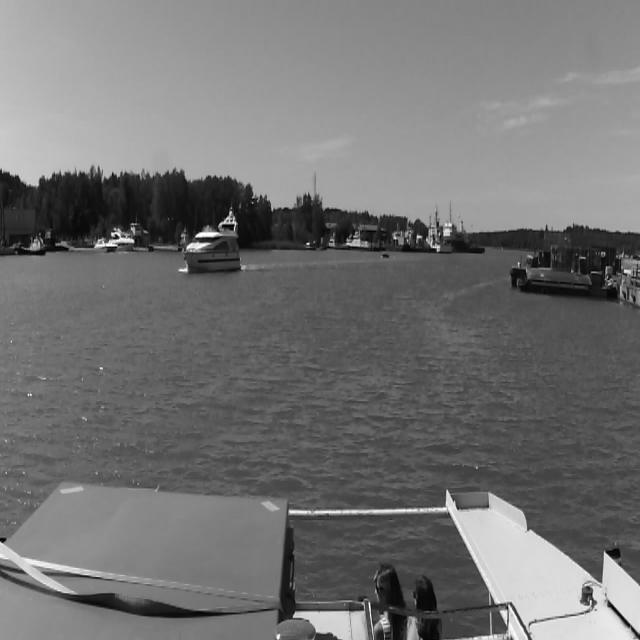ship: (184, 204, 242, 276), (441, 199, 483, 252), (19, 232, 49, 258), (108, 228, 134, 252)
